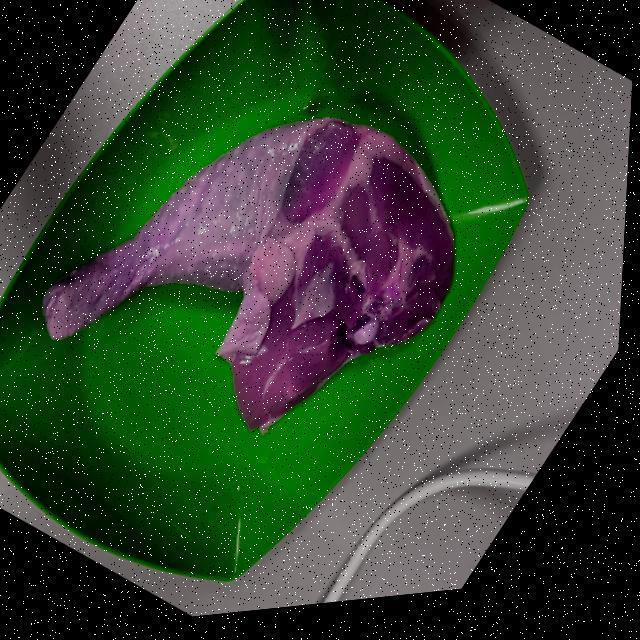quater: (38, 121, 450, 382)
